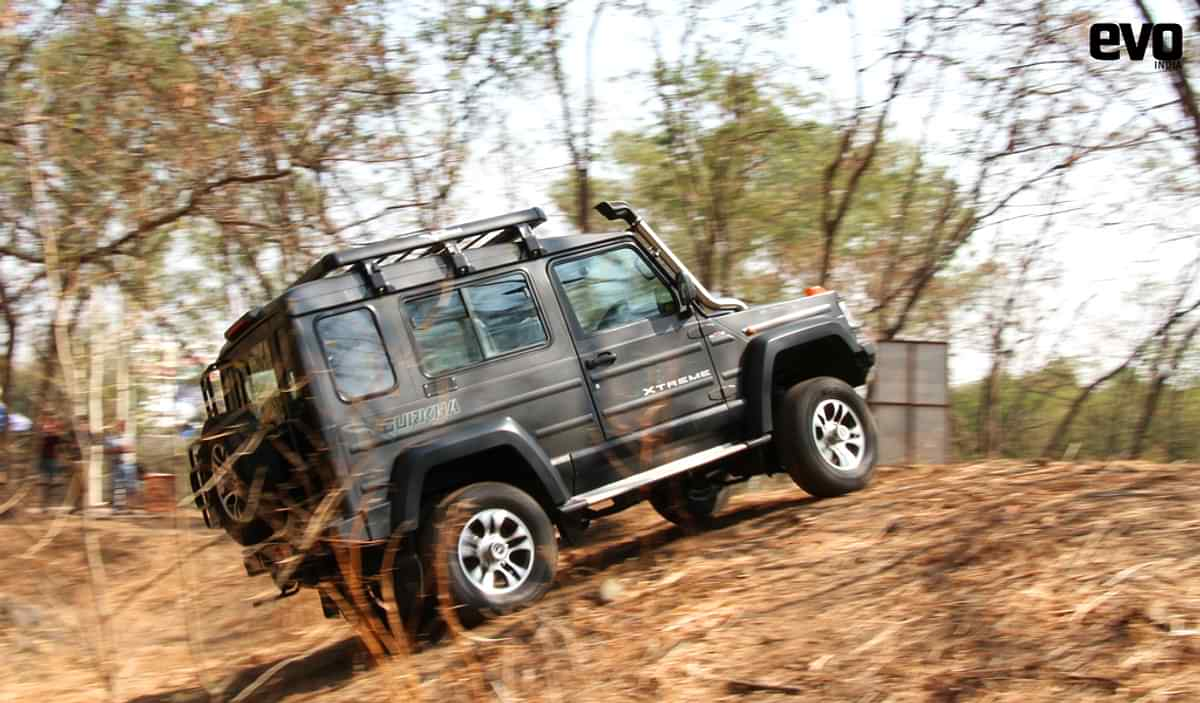Vehicle: (185, 191, 887, 554)
